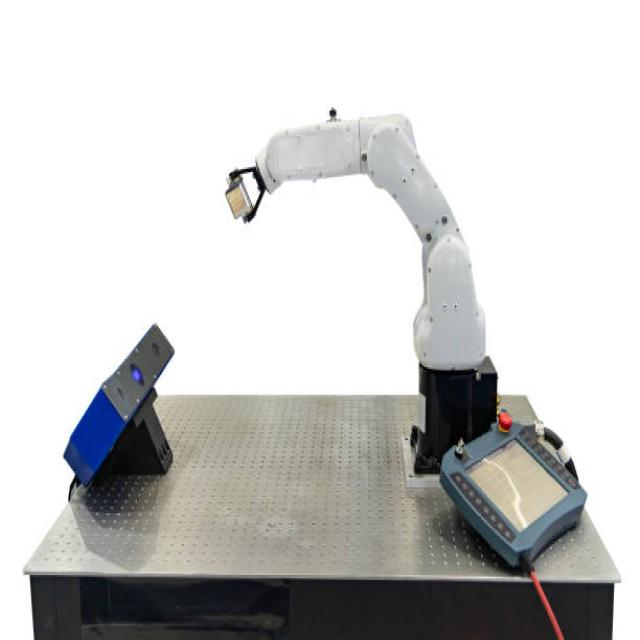Robotic-arm: (220, 93, 503, 440)
